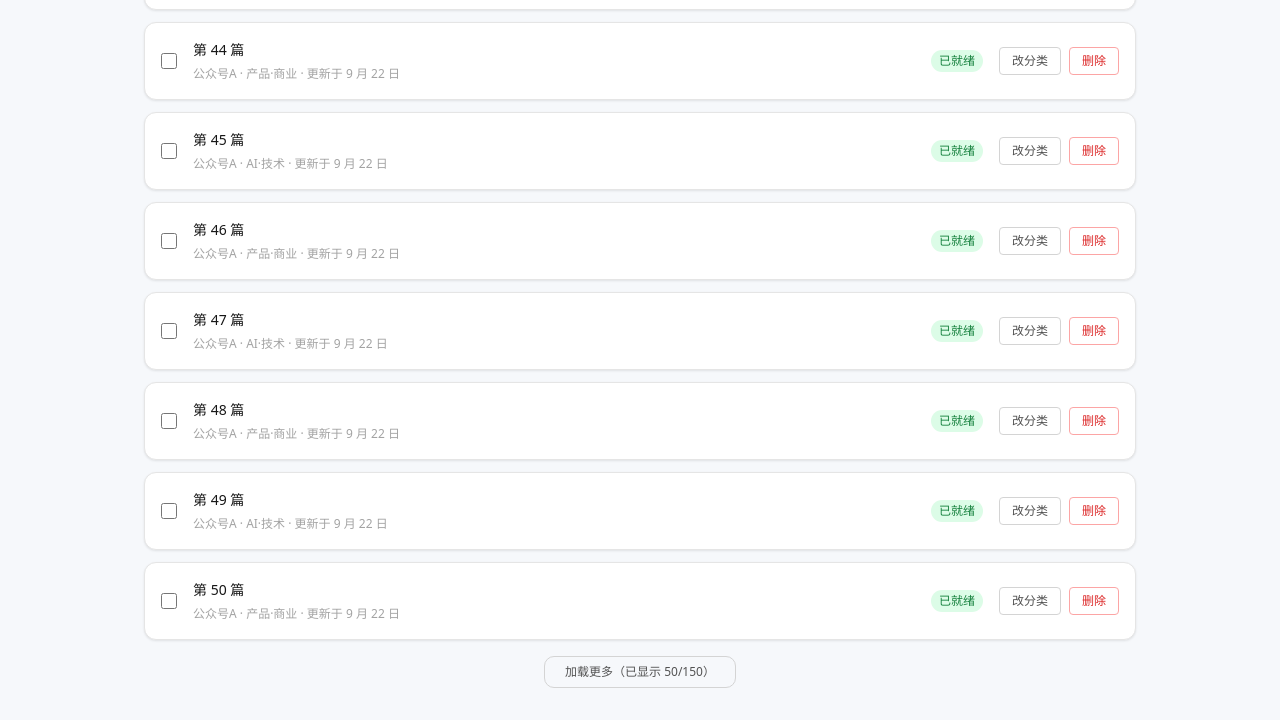
R0.1.4 大空间分类完整性（F-1 + F-9 原始缺陷形态） › 加载更多不改变下拉集合，也不重取分类枚举
This screenshot has width=1280, height=720.
(page scrolled)
Click the button "加载更多（已显示 50/150）".
click(640, 672)  # box [544,656,736,688]
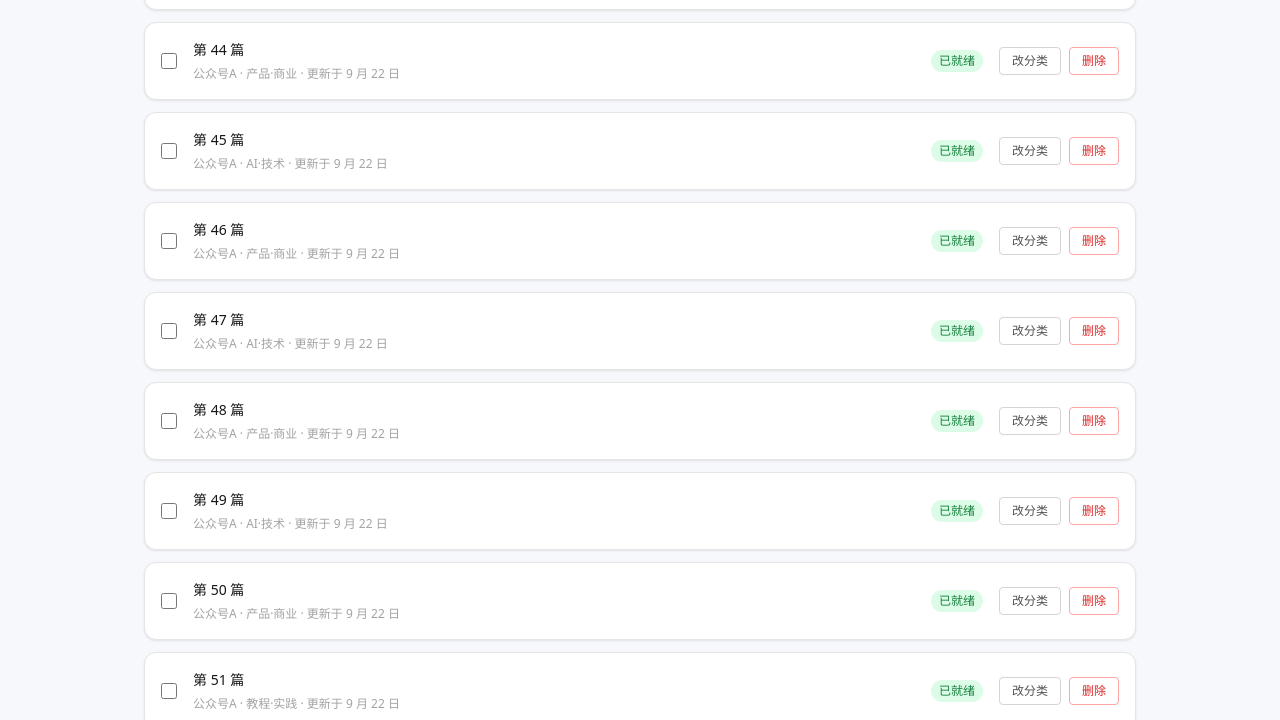
Check: the text "第 51 篇" is shown, box [193,670,244,689]
